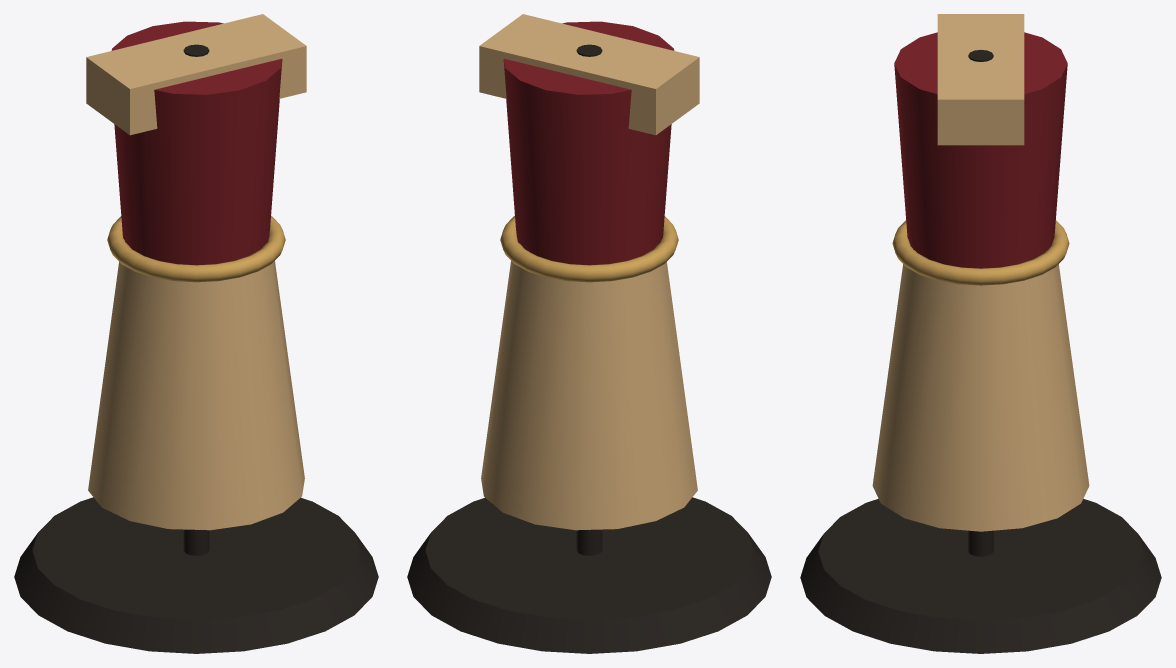
Rendered from clothing-songket-minangkabau.glb.
3 renders of one model, left to right at view 1: azimuth 30°, elevation 25°; view 2: azimuth 150°, elevation 25°; view 3: azimuth 270°, elevation 25°, orthographic.
Bounding box in the file's own units: 1 × 1.59 × 1.
